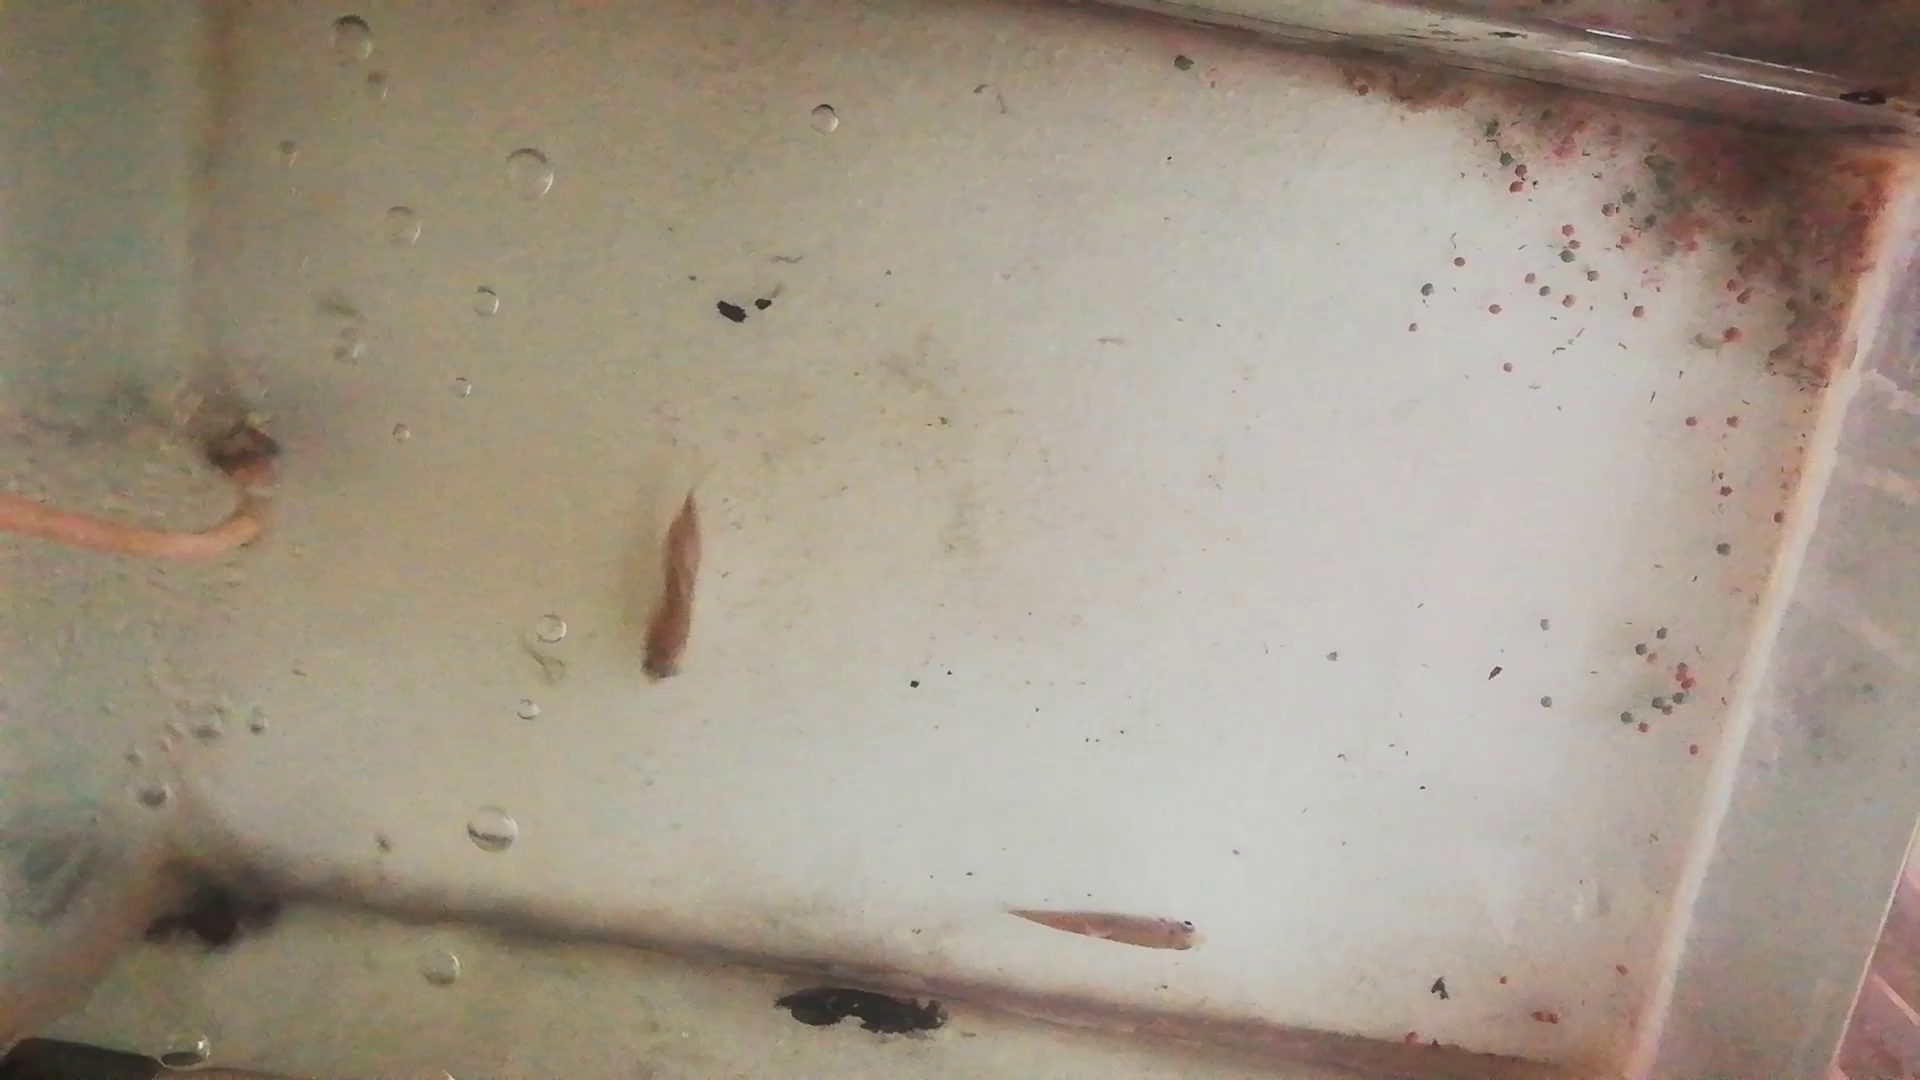fish: (637, 492, 704, 687), (1007, 905, 1204, 959)
